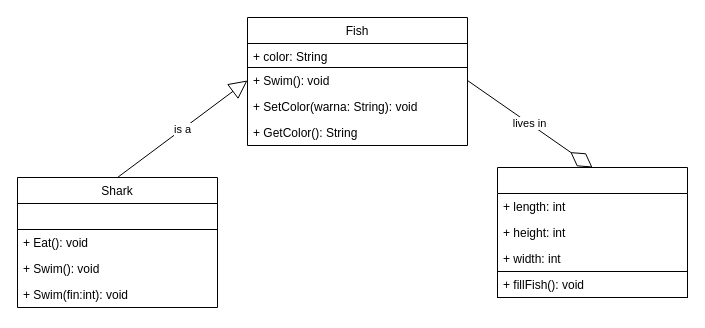
Some shapes in this 705 by 328 pixel diagram are drawn without their labels. The shapes that lost their labels are listed below. From the top down, each one's box as (x1, y1, x2, y2) in pixels, then its label:
(16, 202, 218, 230): - sharoTeeth: int
(496, 166, 688, 298): Aquarium
